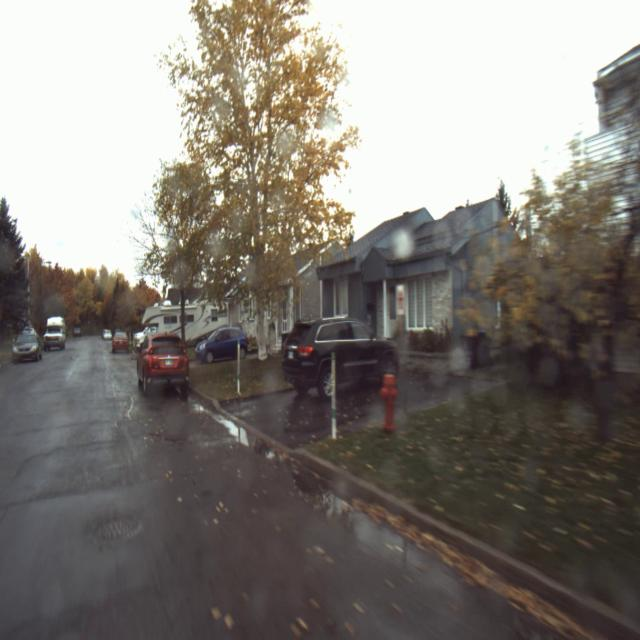car: (279, 306, 398, 398), (133, 324, 195, 405), (195, 315, 252, 367), (7, 321, 46, 368), (110, 326, 126, 352)
